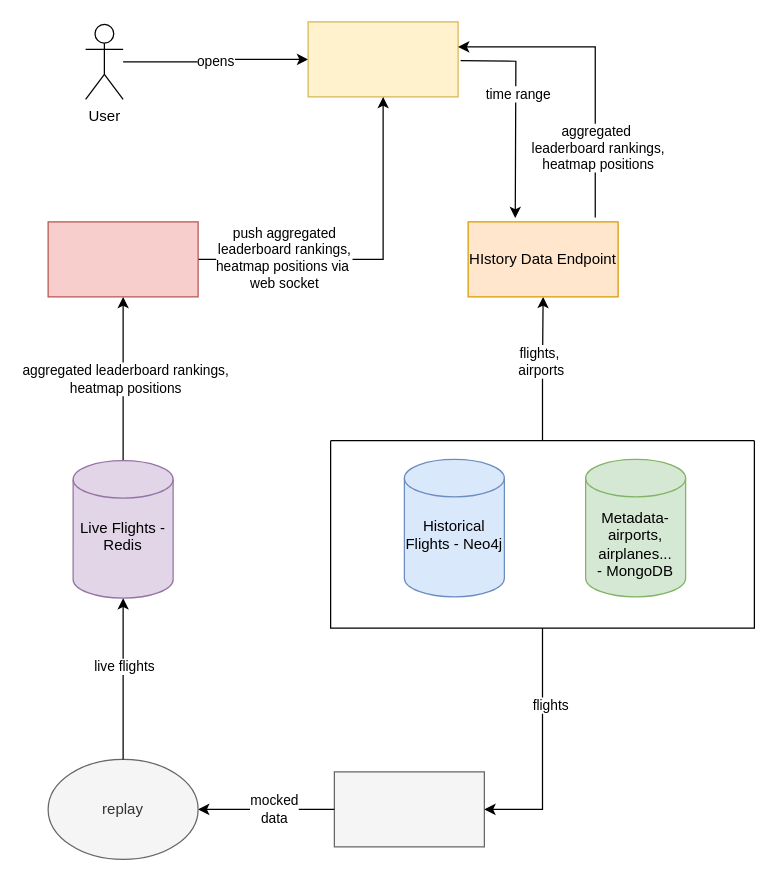
Image size: 776x881. Some labels were removed from this diagram. The shapes that lost their labels are listed below. From the top down, each one's centre as x and y in pixels, then its label:
(x=382, y=59): HeatMap Page
(x=122, y=259): Live Data Endpoint
(x=408, y=809): Moc king Service
